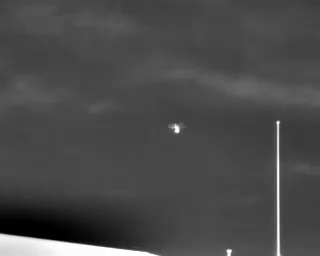HELICOPTER: (164, 117, 190, 139)
